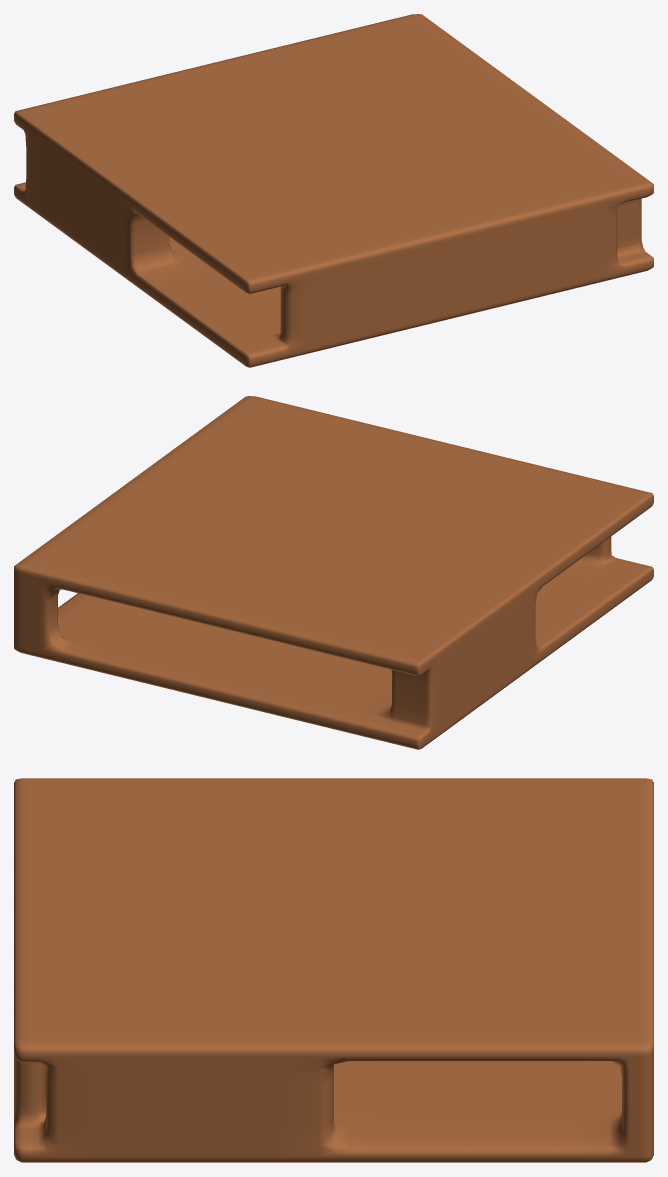
File: Coffee_Table.fbx
3 renders of one model, top to bottom at view 1: azimuth 30°, elevation 25°; view 2: azimuth 150°, elevation 25°; view 3: azimuth 270°, elevation 25°, orthographic. The views are drawn at different scales.
Visible parts, largest first — view 1: Coffee_Table; view 2: Coffee_Table; view 3: Coffee_Table.
Part boxes in pixels (bbox=[...]): Coffee_Table: bbox=[14, 14, 653, 367]; Coffee_Table: bbox=[14, 396, 653, 749]; Coffee_Table: bbox=[14, 778, 653, 1162].
Size of the model in its own units: 6.5 by 1.32 by 6.5.
